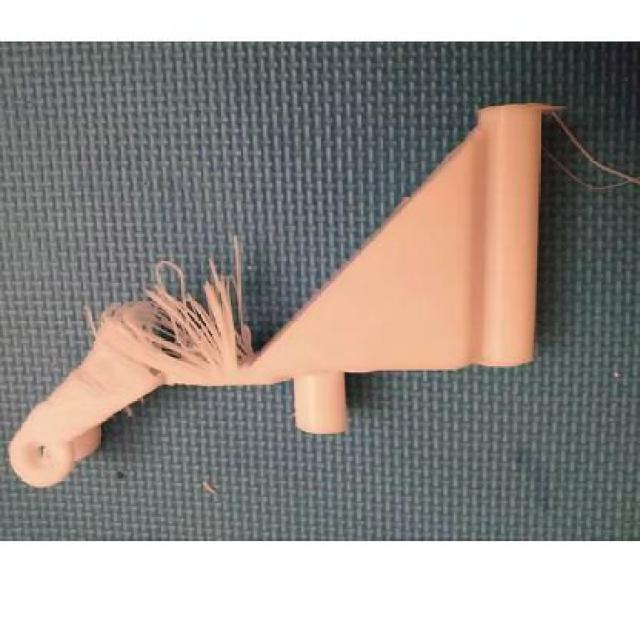spaghetti: (80, 233, 265, 376)
